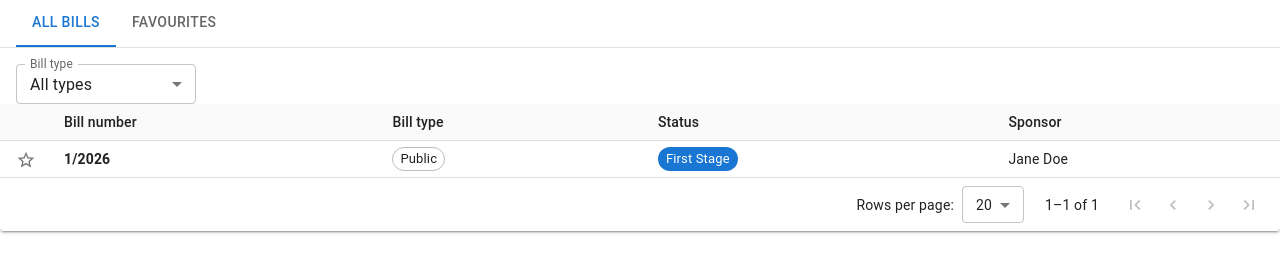
Test case: BillsTable › type filter dropdown › resets the filter and displays 'All types' when that option is selected
What coordinates should you click on to do the following:
click the dropdown named "bill type"
I would click on:
 (61, 84)
Its box is x1=30 y1=74 x2=92 y2=94.
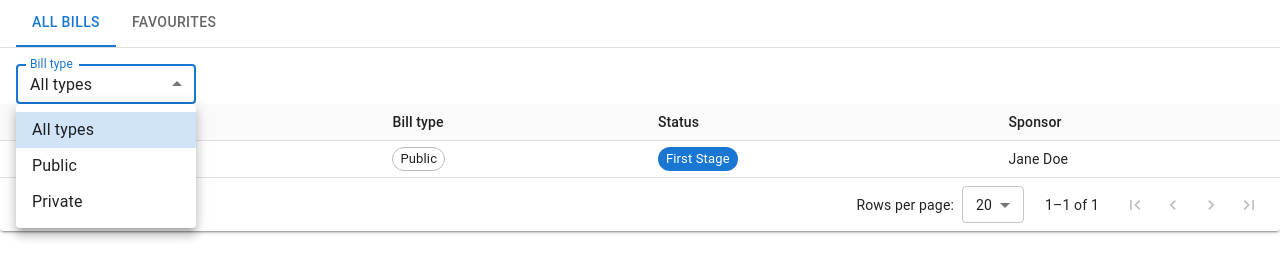
What coordinates should you click on to do the following:
click the option "Public"
I would click on:
 (54, 166)
Its box is x1=32 y1=156 x2=77 y2=175.
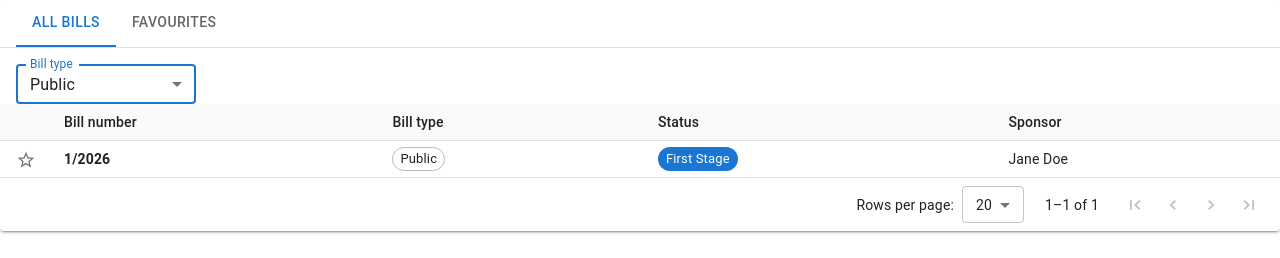
# re-query the select fresh rather than reusing the pre-selection reference
What coordinates should you click on to do the following:
click the dropdown named "bill type"
I would click on:
 (52, 84)
Its box is x1=30 y1=74 x2=75 y2=94.
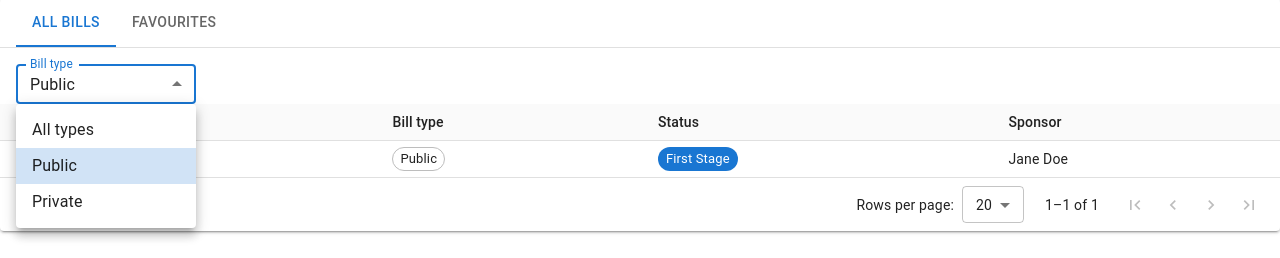
What coordinates should you click on to do the following:
click the option "All types"
I would click on:
 (63, 130)
Its box is x1=32 y1=120 x2=94 y2=139.
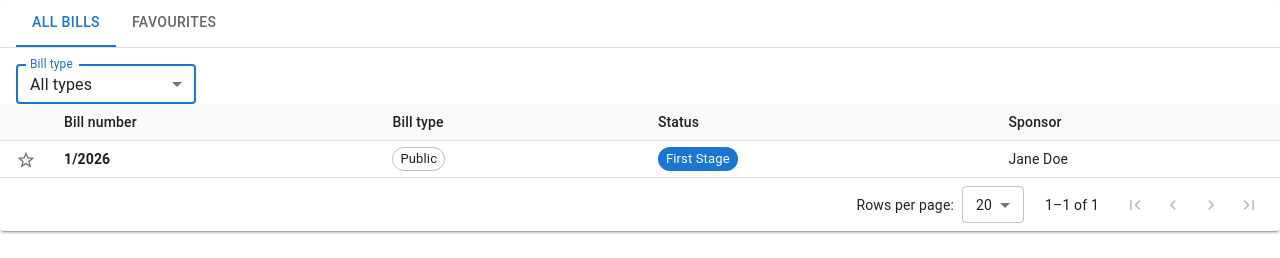
Check: the dropdown named "bill type" reads "All types", box x1=30 y1=74 x2=92 y2=94
